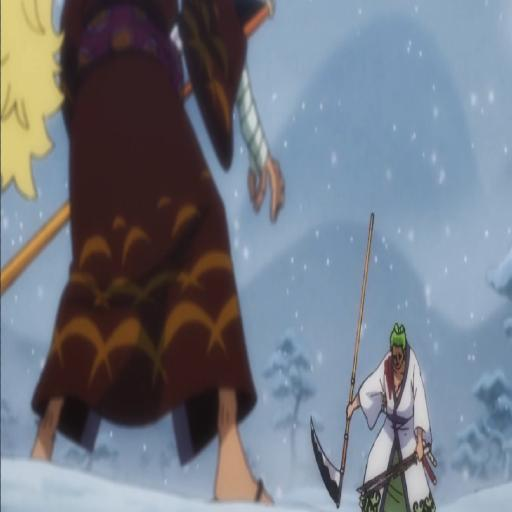Zoro: (350, 300, 441, 512)
